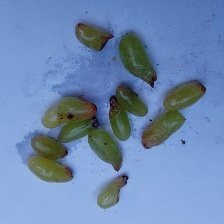grapes: (55, 36, 206, 196)
